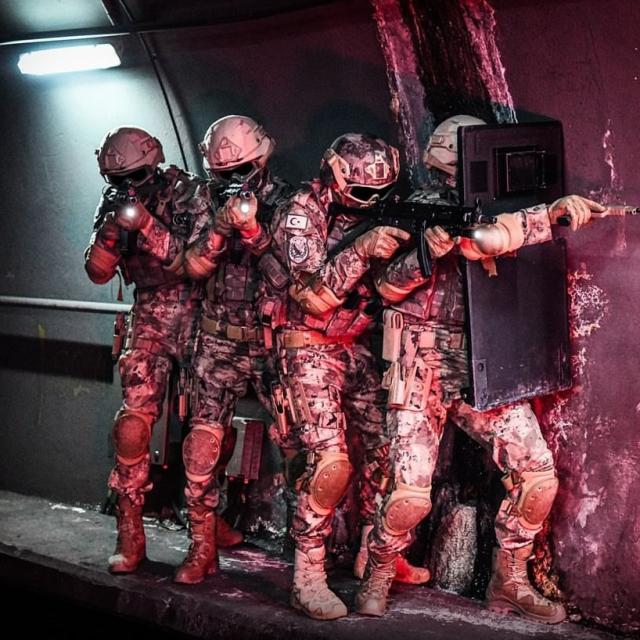poh_personel: (378, 114, 602, 622), (261, 131, 402, 616), (88, 127, 212, 569), (188, 113, 286, 584)
